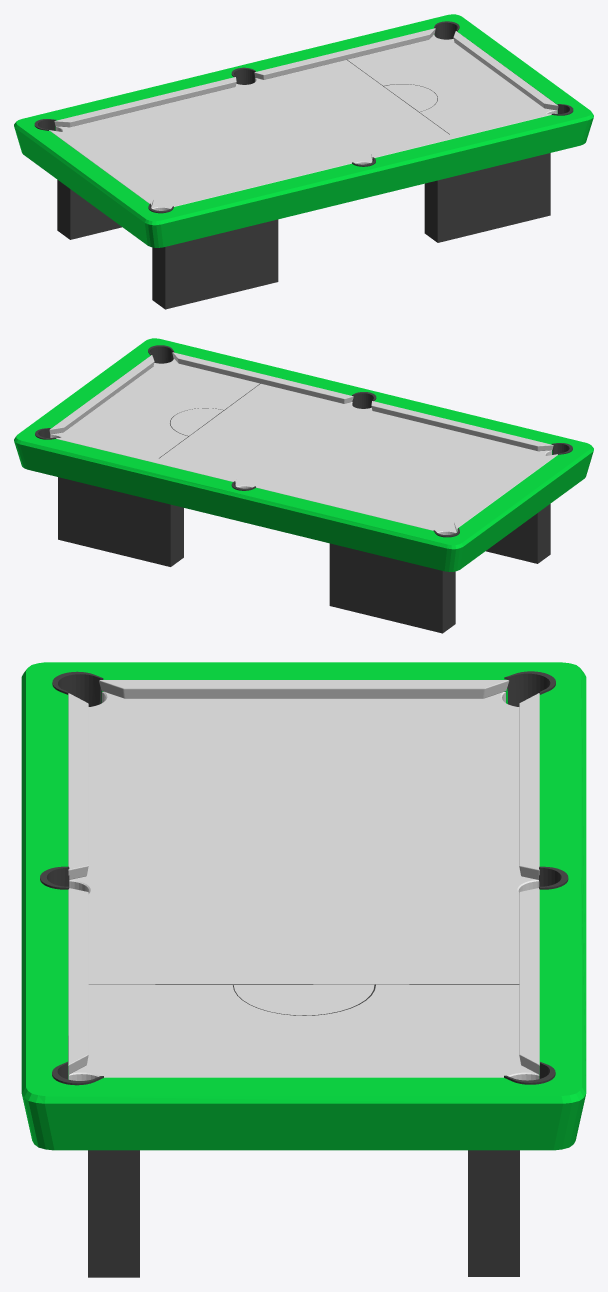
The model's file is table.glb.
3 views of the same model, one above another, from view 1: azimuth 30°, elevation 25°; view 2: azimuth 150°, elevation 25°; view 3: azimuth 270°, elevation 25° (orthographic). The views are drawn at different scales.
Parts seen in each view (by area): view 1: overlay, border, legs, edges, holes; view 2: overlay, border, legs, edges, holes; view 3: overlay, border, edges, legs, holes.
Part boxes in pixels (x1,y1,x2,y2): overlay: [56, 34, 557, 210]; border: [14, 14, 593, 247]; legs: [57, 153, 550, 309]; edges: [49, 28, 558, 207]; holes: [34, 21, 573, 213]; overlay: [50, 358, 551, 534]; border: [14, 338, 593, 571]; legs: [58, 477, 550, 633]; edges: [49, 352, 557, 532]; holes: [35, 345, 572, 537]; overlay: [68, 692, 539, 1080]; border: [21, 662, 586, 1150]; edges: [68, 680, 539, 1077]; legs: [88, 1150, 519, 1277]; holes: [40, 671, 568, 1085].
Size of the model in its own units: 6.78 by 1.54 by 3.7.
